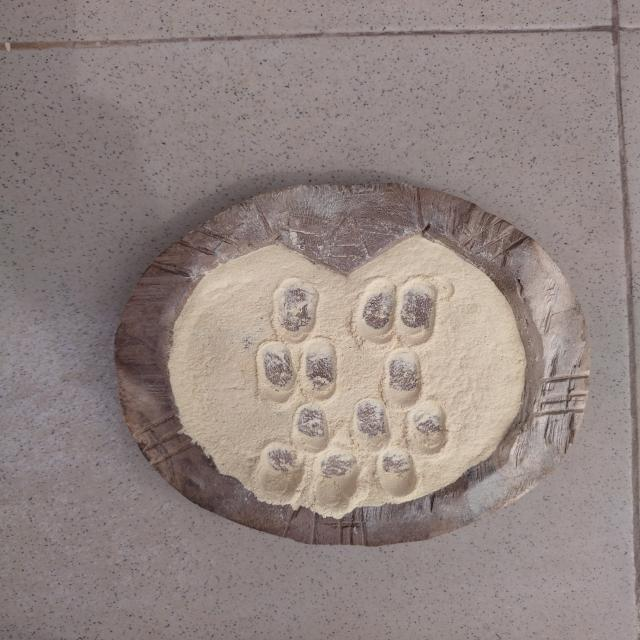double: (254, 439, 364, 518), (346, 395, 454, 457), (352, 276, 442, 349), (254, 333, 342, 406)
single: (264, 278, 320, 346), (378, 350, 428, 412), (374, 446, 422, 498), (292, 404, 330, 454)
